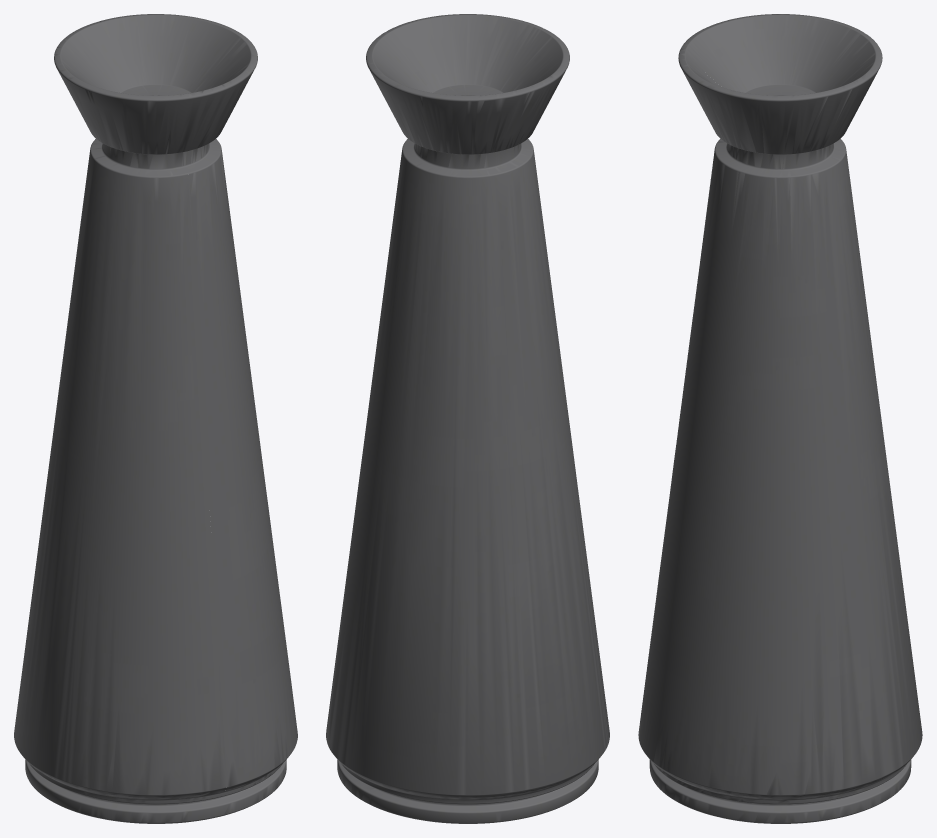
Rendered from queen-black-hd.glb.
3 views of the same model, side by side, from view 1: azimuth 30°, elevation 25°; view 2: azimuth 150°, elevation 25°; view 3: azimuth 270°, elevation 25° (orthographic).
Parts seen in each view (by area): view 1: 02_dama_cerna; view 2: 02_dama_cerna; view 3: 02_dama_cerna.
Boxes of the visible parts, x1=… form: 02_dama_cerna: x1=14, y1=14, x2=297, y2=823; 02_dama_cerna: x1=326, y1=14, x2=609, y2=823; 02_dama_cerna: x1=638, y1=14, x2=922, y2=823.
Size of the model in its own units: 0.5836 by 1.62 by 0.5836.
1 material, 1 textured.
